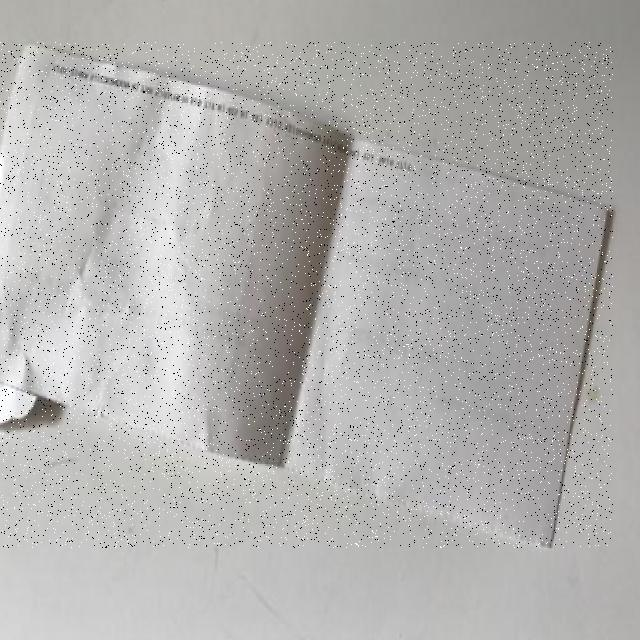paper: (0, 42, 613, 547)
